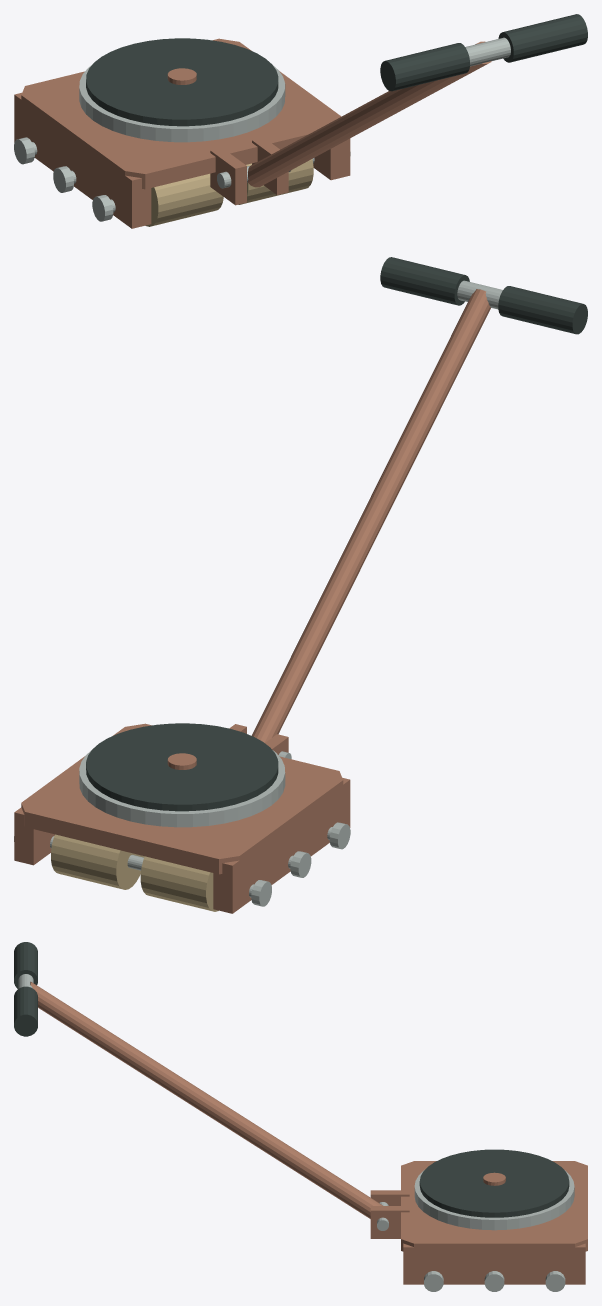
3 renders of one model, top to bottom at view 1: azimuth 30°, elevation 25°; view 2: azimuth 150°, elevation 25°; view 3: azimuth 270°, elevation 25°, orthographic. The views are drawn at different scales.
Parts seen in each view (by area): view 1: WholeCompleteRaisedTopPad, WholeChamferedUpperChassisPlate, WholeLowSideCheek-1, WholeLongInclinedSteeringBar, WholeCircularUpperPlatform, WholeFullEndGrip-1, WholeFullEndGrip1, WholeGroundRoller0_-1, WholeFrontHandleClevis-1, WholeLowSideCheek1, WholeGroundRoller0_1, WholeCompleteCrossGripBar (+5 smaller); view 2: WholeChamferedUpperChassisPlate, WholeCompleteRaisedTopPad, WholeLongInclinedSteeringBar, WholeLowSideCheek-1, WholeCircularUpperPlatform, WholeGroundRoller2_1, WholeGroundRoller2_-1, WholeFullEndGrip-1, WholeFullEndGrip1, WholeLowSideCheek1; view 3: WholeCompleteRaisedTopPad, WholeLongInclinedSteeringBar, WholeChamferedUpperChassisPlate, WholeLowSideCheek1, WholeCircularUpperPlatform, WholeFullEndGrip1, WholeFrontHandleClevis1, WholeFullEndGrip-1, WholeFrontHandleClevis-1.
Boxes of the visible parts, x1,y1,x2,y2 form: WholeCompleteRaisedTopPad: [86, 38, 278, 126]; WholeChamferedUpperChassisPlate: [21, 38, 341, 189]; WholeLowSideCheek-1: [14, 92, 151, 228]; WholeLongInclinedSteeringBar: [247, 41, 491, 187]; WholeCircularUpperPlatform: [79, 64, 285, 142]; WholeFullEndGrip-1: [380, 43, 469, 91]; WholeFullEndGrip1: [498, 14, 587, 62]; WholeGroundRoller0_-1: [145, 173, 223, 226]; WholeFrontHandleClevis-1: [210, 147, 246, 205]; WholeLowSideCheek1: [313, 138, 350, 180]; WholeGroundRoller0_1: [238, 159, 313, 204]; WholeCompleteCrossGripBar: [465, 37, 510, 66]; WholeChamferedUpperChassisPlate: [21, 723, 343, 874]; WholeCompleteRaisedTopPad: [86, 723, 278, 811]; WholeLongInclinedSteeringBar: [251, 289, 490, 742]; WholeLowSideCheek-1: [213, 777, 350, 913]; WholeCircularUpperPlatform: [79, 750, 285, 827]; WholeGroundRoller2_1: [51, 834, 144, 889]; WholeGroundRoller2_-1: [140, 856, 218, 911]; WholeFullEndGrip-1: [498, 286, 587, 334]; WholeFullEndGrip1: [380, 257, 469, 305]; WholeLowSideCheek1: [14, 807, 54, 865]; WholeCompleteRaisedTopPad: [419, 1149, 569, 1217]; WholeLongInclinedSteeringBar: [30, 981, 382, 1218]; WholeChamferedUpperChassisPlate: [401, 1161, 587, 1255]; WholeLowSideCheek1: [403, 1243, 585, 1284]; WholeCircularUpperPlatform: [414, 1170, 574, 1230]; WholeFullEndGrip1: [14, 986, 37, 1036]; WholeFrontHandleClevis1: [370, 1206, 409, 1238]; WholeFullEndGrip-1: [14, 942, 37, 988]; WholeFrontHandleClevis-1: [370, 1190, 409, 1205].
Bounding box in the file's own units: 0.506 × 0.7077 × 1.32.
